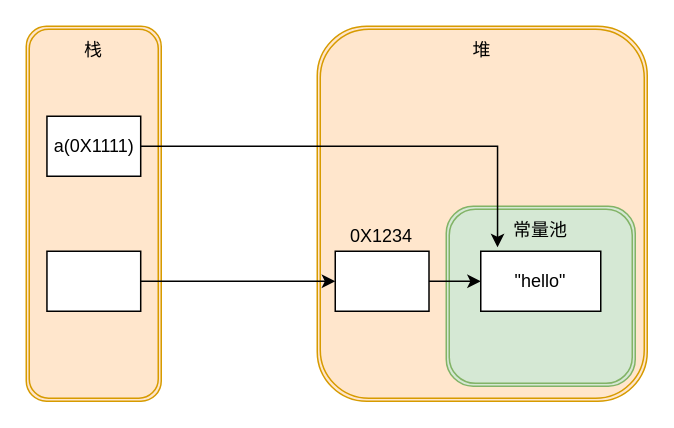
This 674x428 diagram has some shape labels left out. The shapes that lost their labels are listed below. From the top down, each one's box as (x1, y1, x2, y2) in pixels, then its label:
(45, 250, 141, 311): b(0X1234)
(334, 250, 429, 311): value[]
